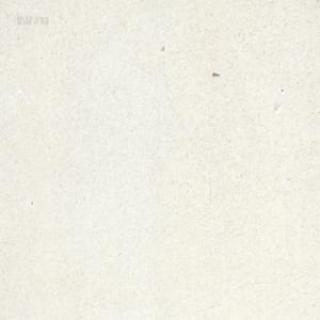Nailtrack_idkeyframe: (212, 70, 218, 76)
